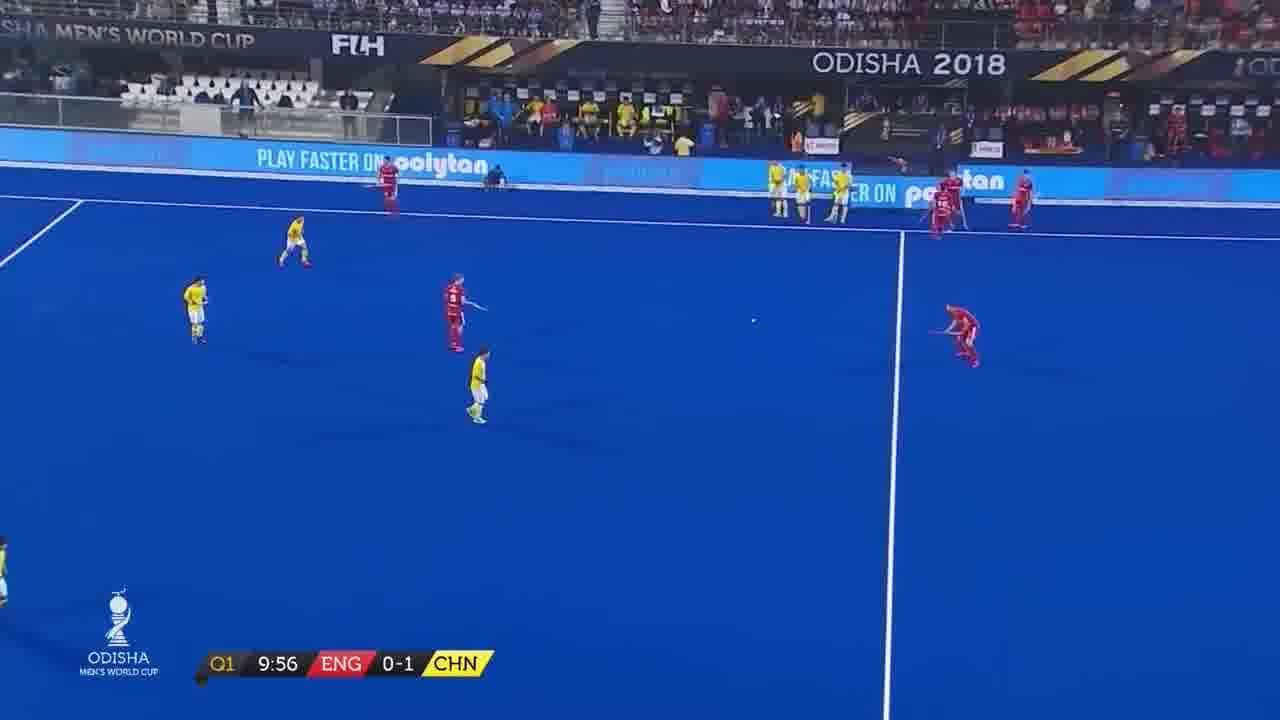ball: (746, 314, 764, 334)
